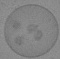small: (14, 35, 24, 44), (34, 31, 43, 40), (26, 24, 36, 32), (13, 21, 21, 29)
